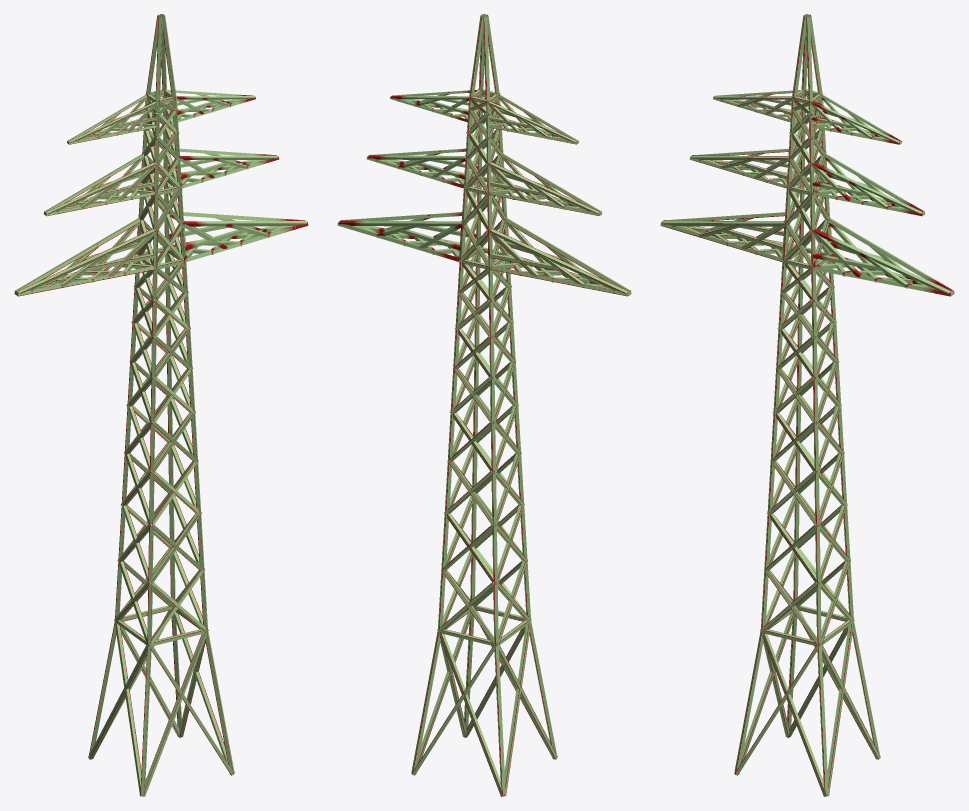
Rendered from SM_PowerLine_01.FBX.
3 views of the same model, side by side, from view 1: azimuth 30°, elevation 25°; view 2: azimuth 150°, elevation 25°; view 3: azimuth 330°, elevation 25° (orthographic).
Visible parts, largest first — view 1: SM_PowerLine_01_000; view 2: SM_PowerLine_01_000; view 3: SM_PowerLine_01_000.
Boxes of the visible parts, left/top/right/bottom form: SM_PowerLine_01_000: left=14, top=14, right=308, bottom=796; SM_PowerLine_01_000: left=337, top=14, right=631, bottom=796; SM_PowerLine_01_000: left=660, top=14, right=954, bottom=796.
Bounding box in the file's own units: 14.69 × 36.32 × 4.78.
Materials: 1 (1 with a texture image).
